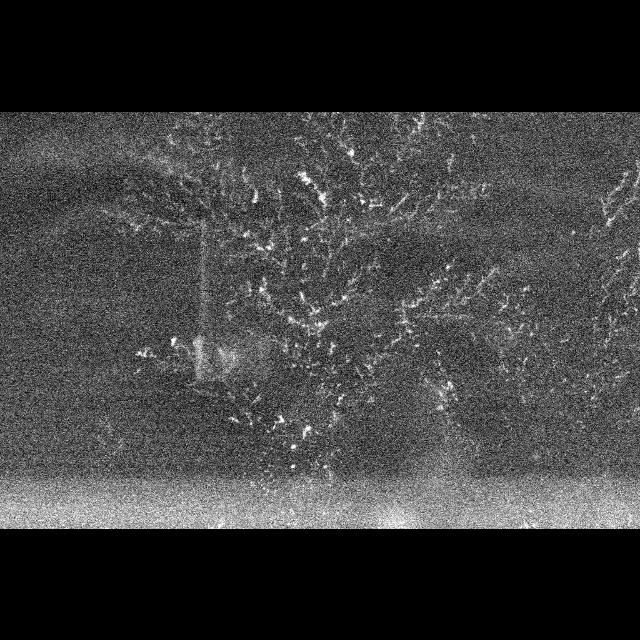dendrites: (129, 152, 251, 237), (178, 215, 211, 331), (396, 111, 450, 162), (599, 169, 639, 228), (418, 377, 460, 426), (247, 227, 289, 275), (171, 334, 210, 384), (596, 249, 630, 305), (295, 170, 332, 213), (211, 344, 248, 386), (374, 195, 420, 224), (389, 296, 428, 326), (442, 271, 472, 309), (258, 331, 292, 362), (359, 149, 386, 186), (450, 181, 493, 203), (336, 133, 363, 166), (287, 316, 331, 336), (299, 290, 324, 319), (310, 231, 333, 260), (242, 165, 259, 203), (291, 191, 320, 213), (123, 211, 154, 231), (622, 273, 639, 306), (388, 190, 410, 215), (426, 189, 447, 212), (475, 266, 499, 286), (203, 112, 224, 134), (315, 382, 335, 403), (337, 118, 358, 136), (513, 356, 528, 381), (259, 276, 272, 304), (226, 250, 256, 262), (361, 373, 378, 394), (224, 156, 237, 181), (280, 224, 292, 251), (505, 323, 524, 340), (388, 111, 401, 135), (186, 136, 201, 156), (348, 266, 363, 286), (413, 307, 440, 318), (316, 220, 335, 235), (112, 436, 126, 455), (240, 405, 253, 425), (294, 135, 309, 152), (342, 225, 367, 235), (621, 302, 638, 316), (593, 380, 611, 393), (135, 346, 156, 357), (498, 292, 509, 313), (338, 236, 352, 252), (272, 414, 286, 430), (406, 325, 422, 339), (368, 195, 383, 209), (184, 115, 201, 127), (331, 294, 348, 306), (496, 359, 510, 373), (154, 358, 169, 371), (315, 163, 330, 176), (295, 341, 307, 357), (442, 312, 474, 318), (457, 172, 468, 189), (155, 216, 178, 224), (167, 133, 182, 145), (430, 274, 442, 289), (367, 258, 380, 271), (634, 159, 640, 186), (603, 331, 613, 347), (260, 217, 273, 229), (172, 361, 185, 373), (172, 229, 186, 240), (445, 181, 462, 190), (591, 315, 600, 332), (272, 187, 282, 202), (302, 424, 312, 439), (447, 152, 454, 173), (612, 370, 630, 378), (221, 189, 234, 200), (171, 118, 184, 129), (317, 144, 328, 157), (362, 361, 376, 371), (301, 111, 312, 123), (521, 392, 533, 403), (391, 332, 401, 345), (305, 221, 319, 230), (245, 279, 252, 297), (445, 258, 455, 270), (327, 341, 336, 354), (609, 314, 618, 327), (166, 350, 180, 358), (242, 386, 250, 400), (97, 433, 107, 444), (336, 393, 345, 405), (103, 421, 112, 433), (275, 205, 282, 220), (226, 309, 235, 320), (334, 213, 340, 229), (356, 366, 364, 378), (471, 112, 487, 118), (211, 160, 220, 170), (252, 394, 262, 403), (470, 133, 479, 143), (153, 225, 164, 233), (184, 111, 201, 116), (161, 189, 170, 198), (330, 363, 338, 373), (227, 390, 235, 400), (218, 177, 225, 188), (225, 297, 236, 304), (521, 284, 532, 291), (389, 160, 395, 172), (319, 215, 329, 222), (116, 225, 126, 232), (589, 224, 594, 238), (228, 416, 239, 422), (332, 409, 338, 420), (325, 132, 336, 138), (133, 366, 141, 374), (203, 138, 212, 145), (142, 191, 151, 198), (312, 359, 321, 366), (345, 353, 351, 363), (373, 331, 383, 337), (302, 260, 308, 270), (301, 276, 311, 282), (445, 208, 457, 213), (592, 340, 602, 346), (637, 241, 640, 260), (218, 168, 226, 175), (417, 287, 425, 294), (498, 349, 505, 357), (323, 266, 328, 277), (377, 352, 386, 358), (359, 198, 366, 205), (300, 235, 308, 241), (367, 395, 375, 401), (215, 135, 224, 140), (309, 370, 318, 375), (357, 192, 365, 197), (346, 216, 352, 222), (612, 357, 618, 363), (560, 338, 569, 342), (277, 309, 284, 314), (290, 444, 297, 449), (367, 354, 372, 361), (239, 223, 243, 231), (196, 134, 201, 140), (316, 341, 321, 347), (290, 463, 296, 468), (323, 463, 329, 468), (571, 229, 576, 235), (516, 302, 520, 309), (590, 395, 597, 399), (292, 362, 297, 367), (436, 349, 441, 354), (103, 208, 109, 212), (414, 342, 420, 346), (257, 415, 261, 420), (266, 429, 271, 433), (337, 382, 341, 387), (373, 359, 377, 364), (529, 332, 534, 336), (593, 351, 597, 356), (562, 377, 567, 381), (550, 386, 554, 391), (253, 382, 257, 387), (300, 364, 304, 368), (328, 423, 332, 427), (444, 276, 448, 280), (572, 383, 576, 387), (604, 362, 609, 365), (584, 389, 589, 392), (306, 365, 310, 368), (586, 373, 589, 377), (181, 208, 184, 211), (615, 328, 618, 331), (544, 342, 547, 345)
